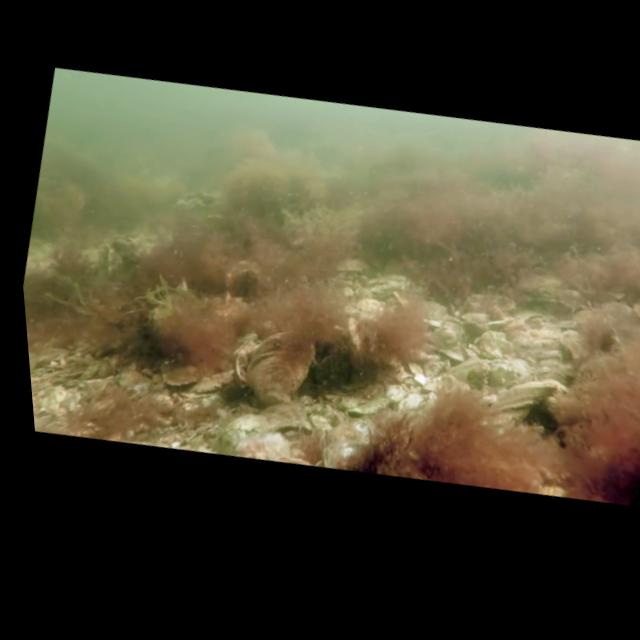Oyster-Closed: (239, 322, 329, 406), (488, 378, 570, 406), (186, 370, 235, 396)
